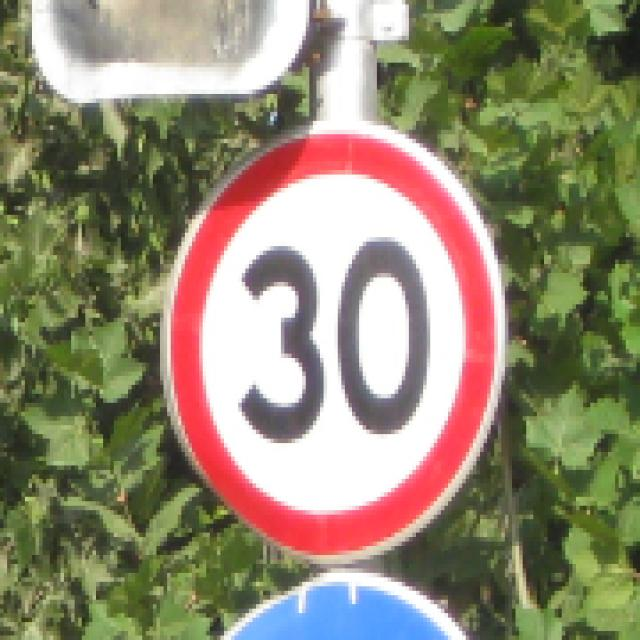Speed: (160, 97, 543, 562)
